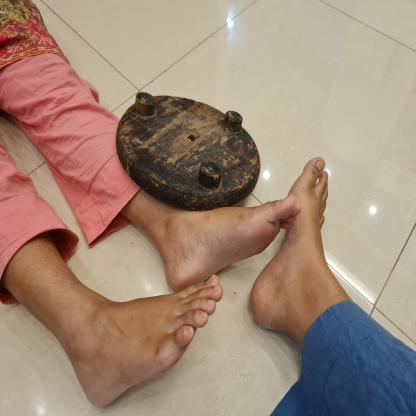leg: (0, 235, 228, 412), (245, 150, 358, 346), (125, 177, 307, 294)
